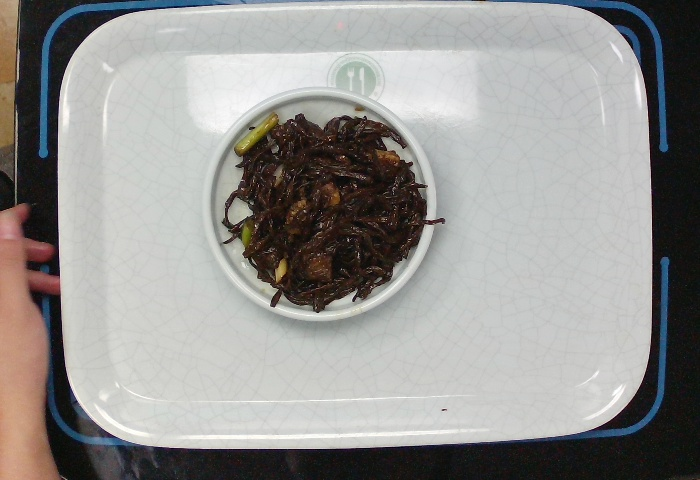JYsf-Xiao_Yuan_Pan: (204, 85, 442, 322)
